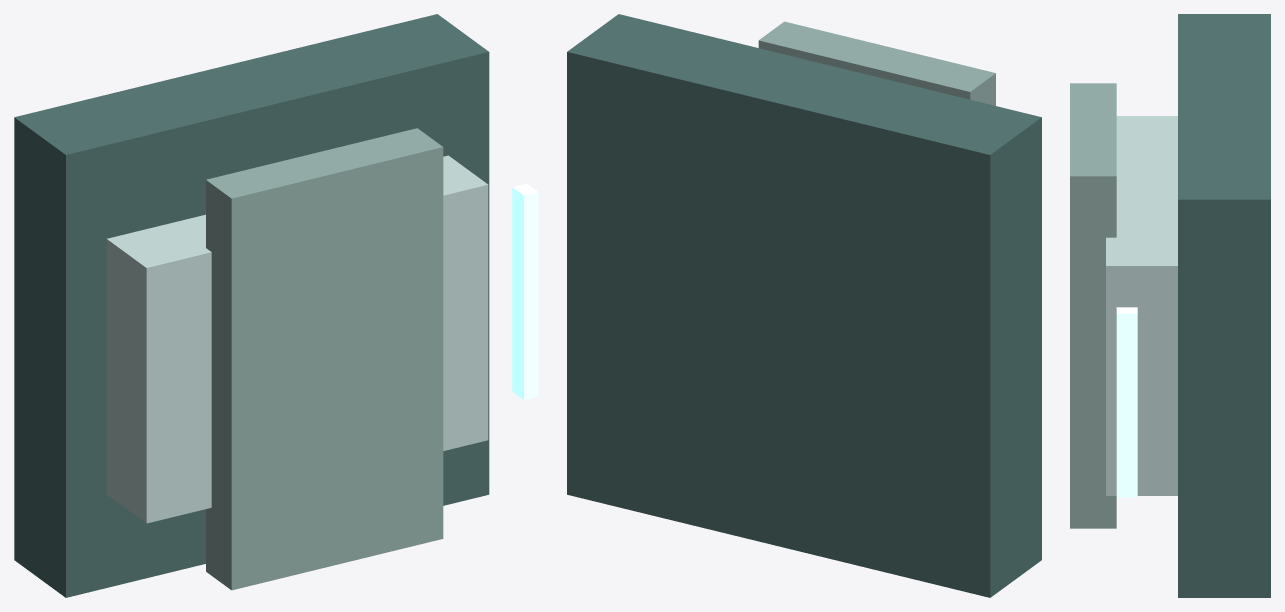
Rendered from chassis.glb.
3 views of the same model, side by side, from view 1: azimuth 30°, elevation 25°; view 2: azimuth 150°, elevation 25°; view 3: azimuth 270°, elevation 25° (orthographic). The views are drawn at different scales.
Visible parts, largest first — view 1: lower_frame, spine, cross_deck, status_bar; view 2: lower_frame, spine; view 3: lower_frame, cross_deck, spine, status_bar.
Part boxes in pixels (x1,y1,x2,y2): lower_frame: (14, 14, 489, 597); spine: (206, 128, 443, 590); cross_deck: (106, 155, 488, 523); status_bar: (512, 183, 538, 399); lower_frame: (567, 14, 1041, 597); spine: (758, 21, 995, 105); lower_frame: (1178, 14, 1270, 597); cross_deck: (1106, 116, 1177, 495); spine: (1070, 83, 1116, 528); status_bar: (1116, 307, 1137, 497).
Bounding box in the file's own units: 0.539 × 0.52 × 0.2375.
